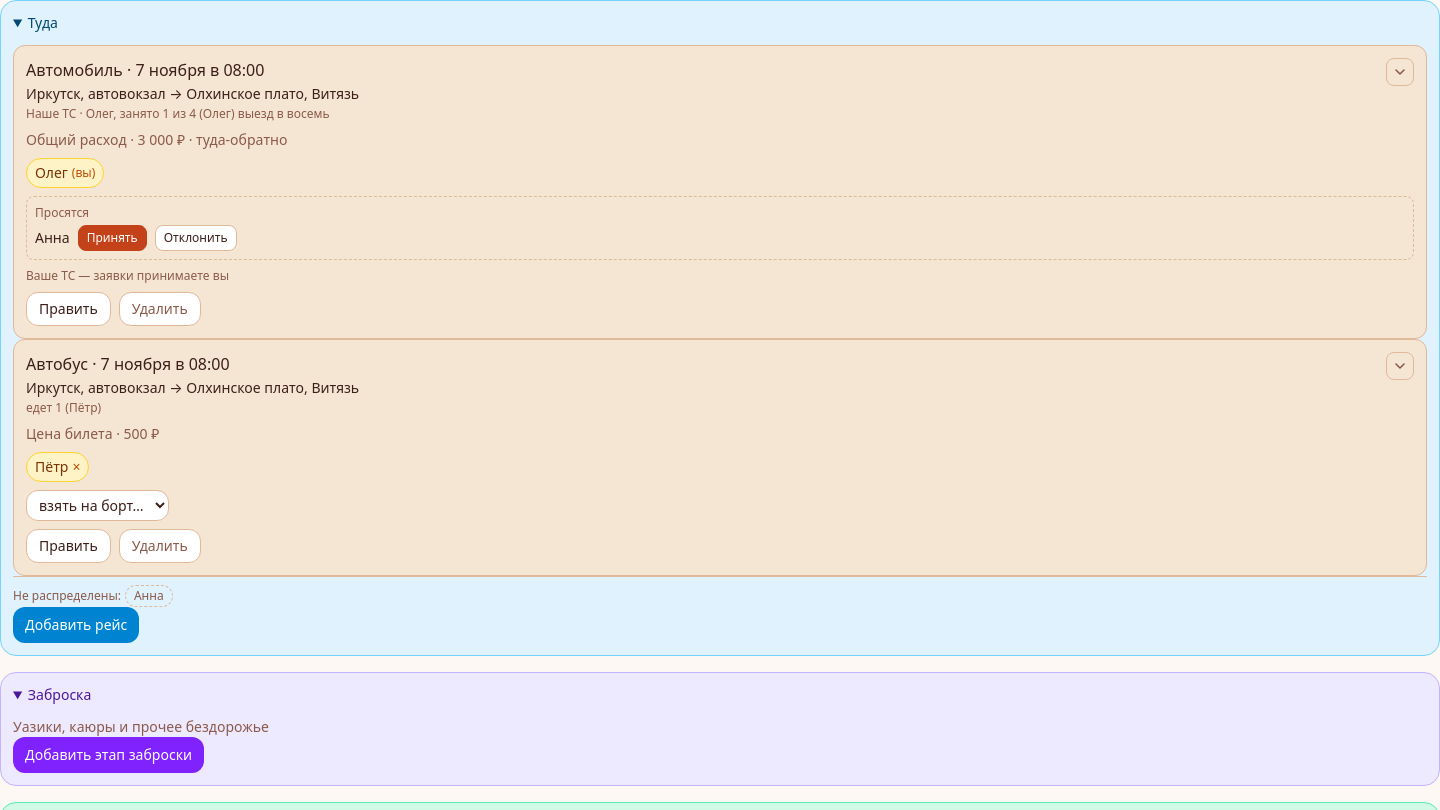
Test case: TripTransfer › у рейса нет «нашего ТС», общих расходов и пары
This screenshot has width=1440, height=810.
Click the button with test id "transfer-add-there" at x=76, y=625, box left=13, top=607, right=139, bottom=643
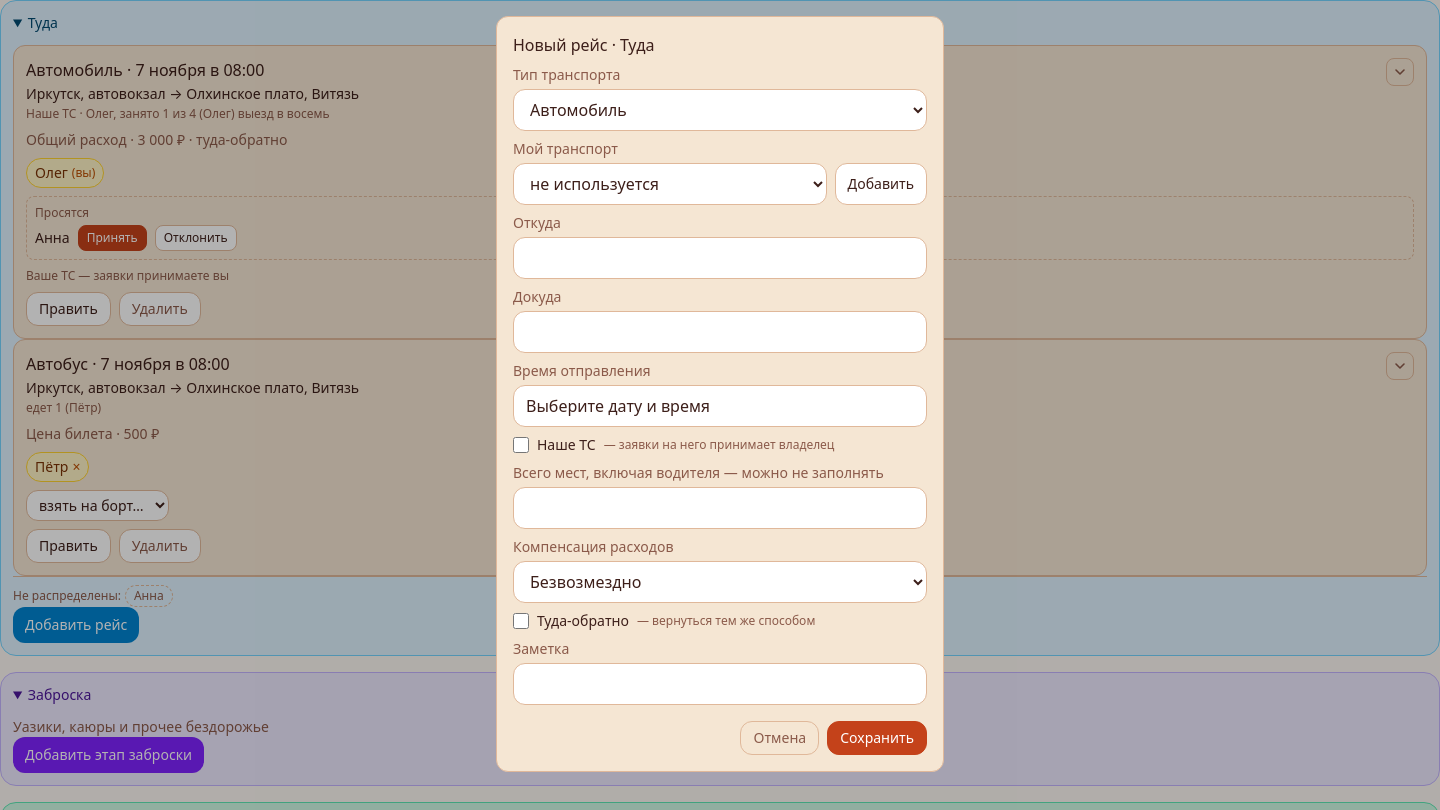
Result: the checkbox with test id "transfer-own-input" is shown at left=513, top=437, right=529, bottom=453
Result: the checkbox with test id "transfer-round-trip-input" is shown at left=513, top=613, right=529, bottom=629
Select "Вертолёт" in the dropdown with test id "transfer-mode-input" at x=720, y=110, box left=513, top=89, right=927, bottom=131
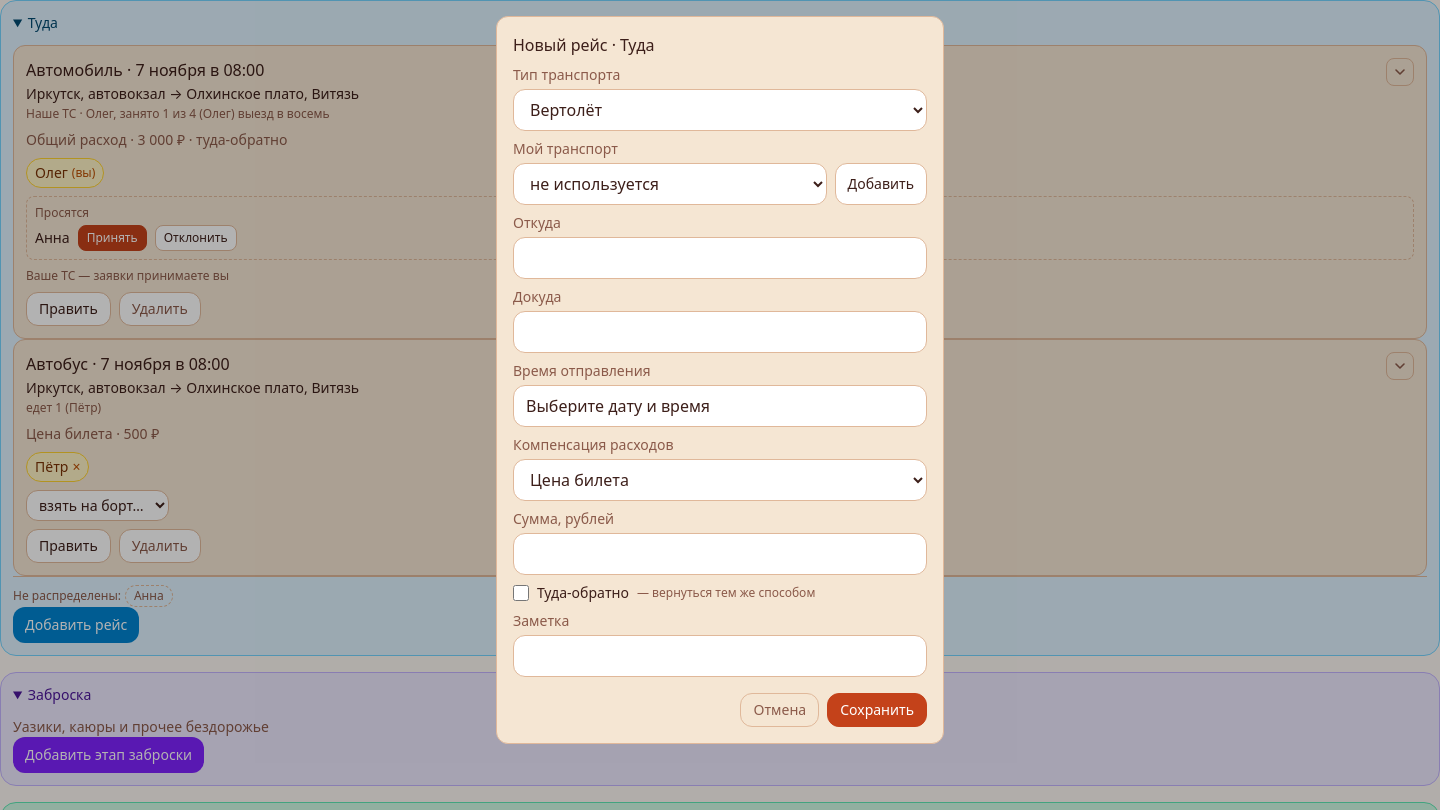
Result: the checkbox with test id "transfer-round-trip-input" is shown at left=513, top=585, right=529, bottom=601
Result: the dropdown with test id "transfer-compensation-input" shows "Цена билета" at left=513, top=459, right=927, bottom=501
